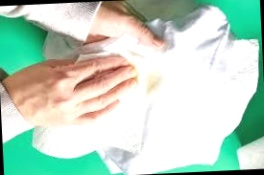oil: (146, 73, 164, 94)
